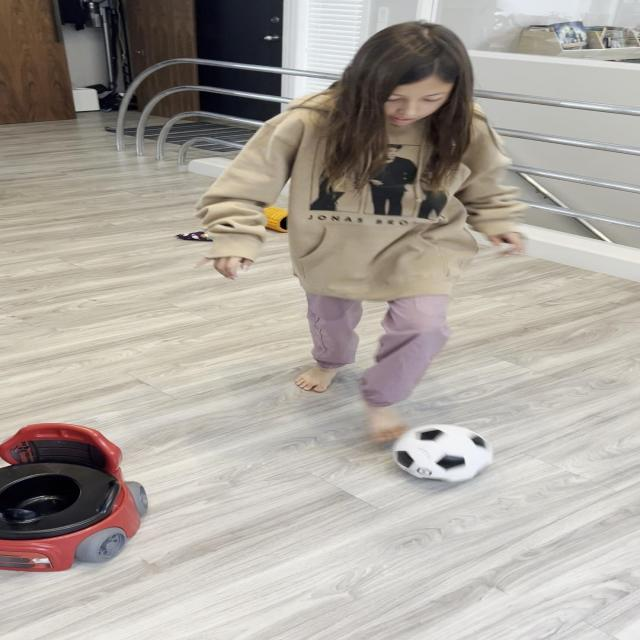Soccer Ball: (393, 424, 492, 481)
